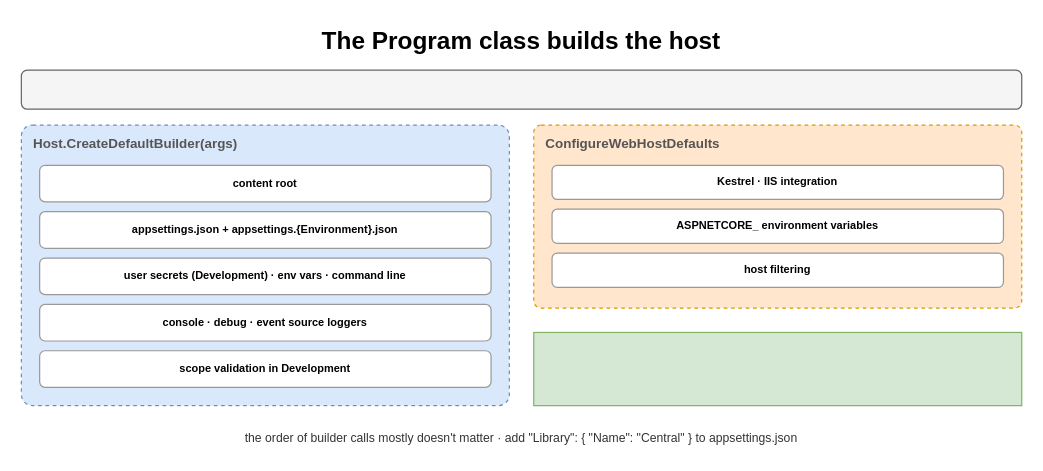
This 1043x471 diagram has some shape labels left out. Each missing label, with the centre of its shape:
Each builder step is a callback that runs at Build(): (x=521, y=89)
UseStartup<Startup>() · Startup(IConfiguration) "/" → Library: Central: (x=777, y=368)
